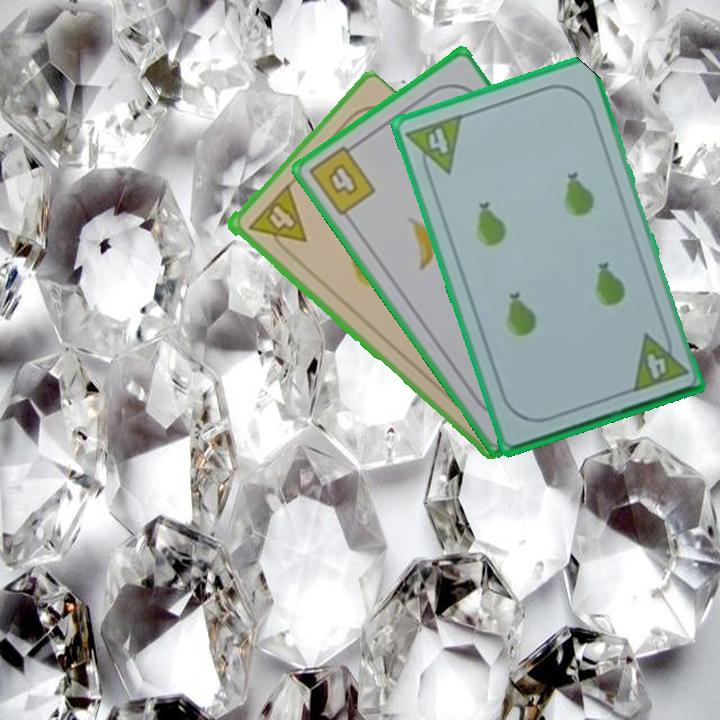4b: (304, 138, 379, 219)
4p: (243, 182, 309, 259), (402, 110, 465, 183), (628, 325, 691, 394)
